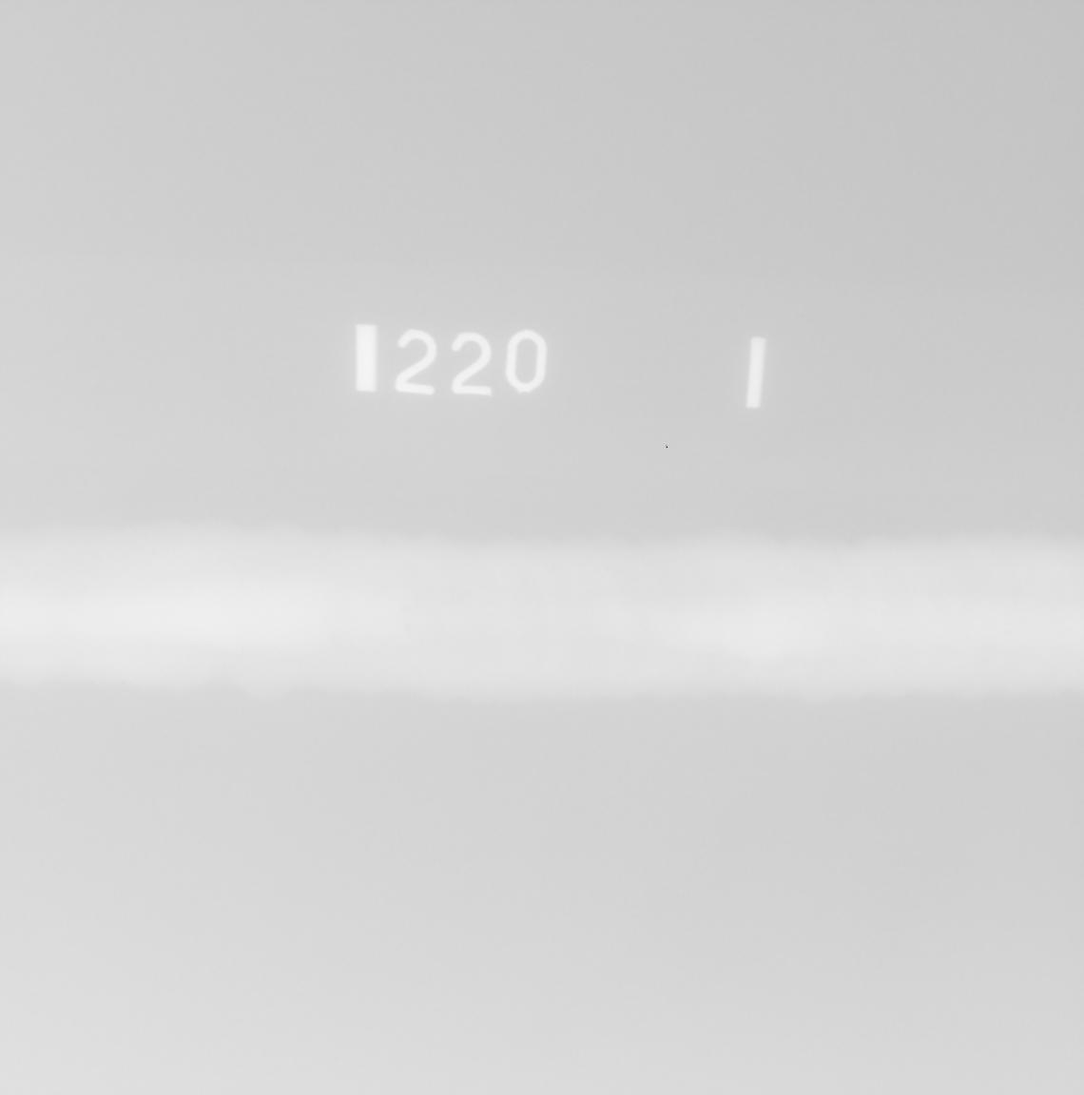Pore/Porosity: (401, 605, 410, 613), (1005, 630, 1014, 637), (330, 636, 337, 643), (405, 624, 411, 632), (605, 566, 609, 571)
